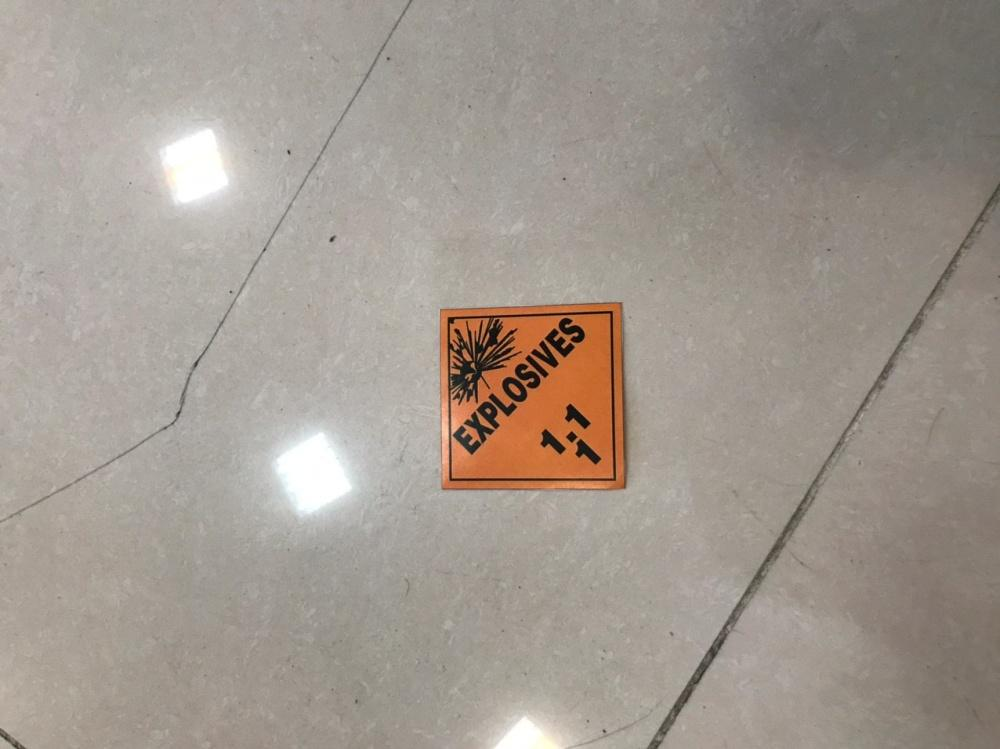explosive: (442, 300, 624, 491)
